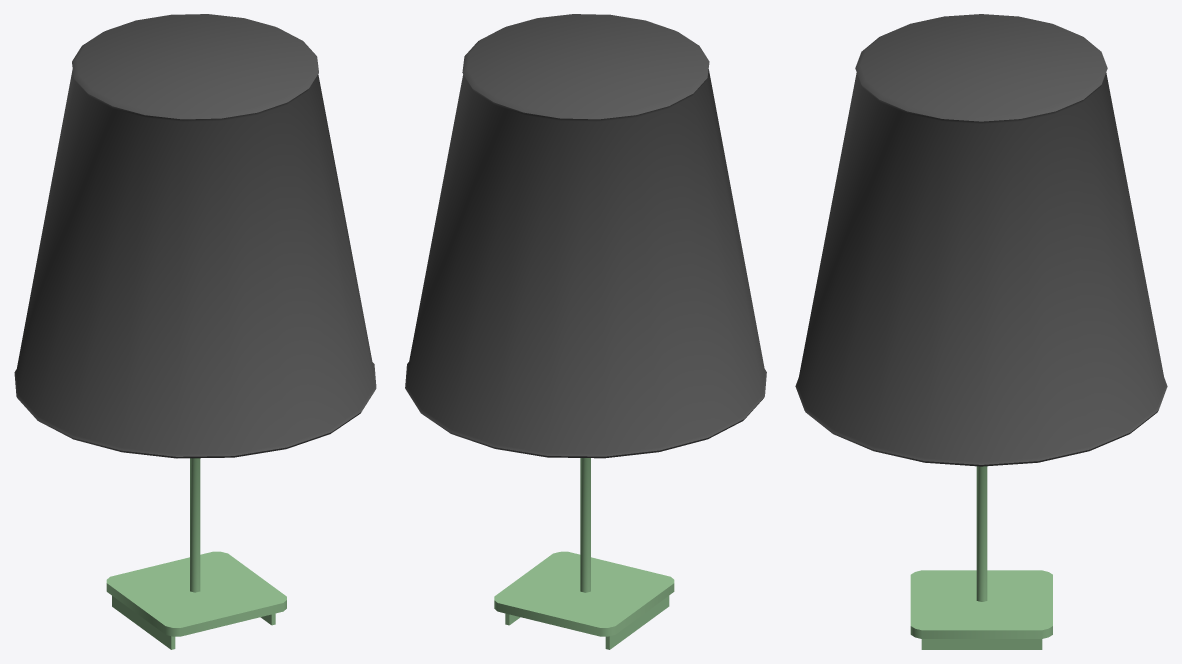
File: FanstaShade.FBX
3 renders of one model, left to right at view 1: azimuth 30°, elevation 25°; view 2: azimuth 150°, elevation 25°; view 3: azimuth 270°, elevation 25°, orthographic.
Visible parts, largest first — view 1: FanstaShade; view 2: FanstaShade; view 3: FanstaShade.
Boxes of the visible parts, bbox=[...] form: FanstaShade: bbox=[14, 14, 376, 649]; FanstaShade: bbox=[405, 14, 766, 649]; FanstaShade: bbox=[795, 14, 1167, 649].
Bounding box in the file's own units: 34 × 34 × 56.42.
